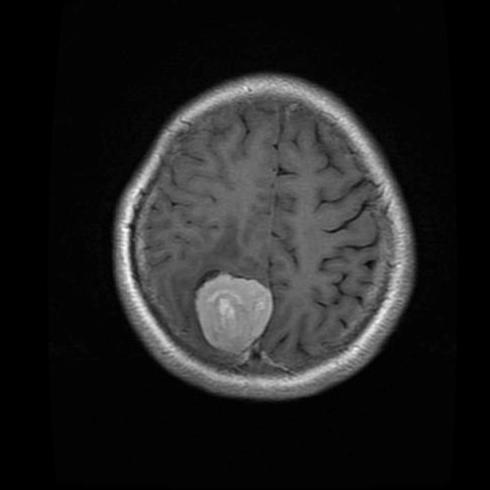Tumour-Meningioma: (178, 258, 291, 374)
